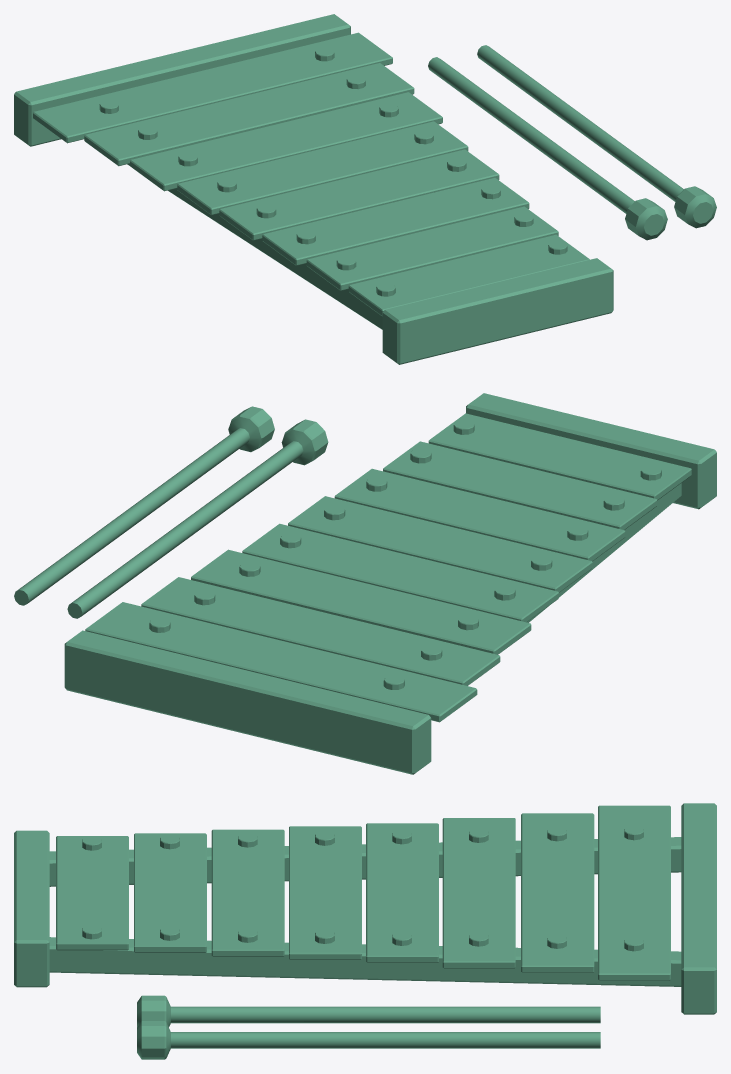
The model's file is Xylophone.fbx.
3 views of the same model, one above another, from view 1: azimuth 30°, elevation 25°; view 2: azimuth 150°, elevation 25°; view 3: azimuth 270°, elevation 25° (orthographic). The views are drawn at different scales.
Parts seen in each view (by area): view 1: Xylophone, Xylo_stick, Xylo_stick1; view 2: Xylophone, Xylo_stick1, Xylo_stick; view 3: Xylophone, Xylo_stick, Xylo_stick1.
Part boxes in pixels (bbox=[...]): Xylophone: bbox=[14, 14, 613, 364]; Xylo_stick: bbox=[428, 57, 667, 240]; Xylo_stick1: bbox=[477, 45, 716, 228]; Xylophone: bbox=[64, 393, 716, 774]; Xylo_stick1: bbox=[14, 406, 274, 605]; Xylo_stick: bbox=[67, 419, 328, 618]; Xylophone: bbox=[14, 803, 716, 1014]; Xylo_stick: bbox=[137, 995, 600, 1027]; Xylo_stick1: bbox=[137, 1021, 600, 1059].
Size of the model in its own units: 0.202 by 0.0206 by 0.268.
